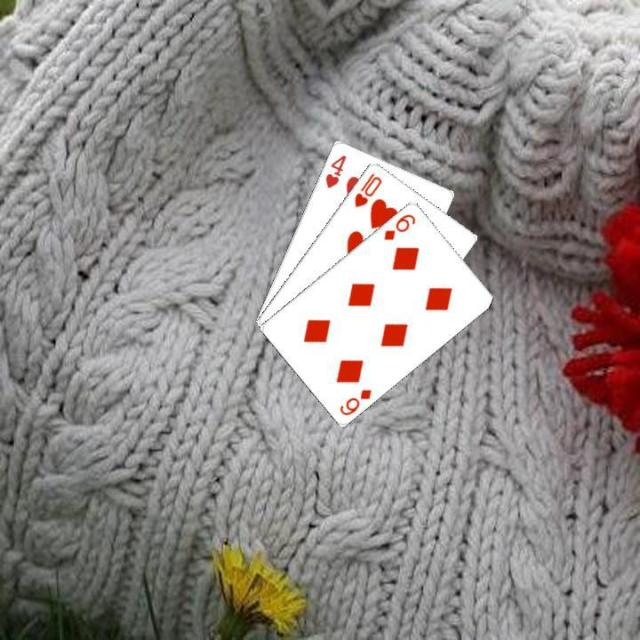10H: (350, 169, 384, 209)
4H: (321, 150, 347, 190)
6D: (380, 210, 418, 242), (336, 385, 373, 417)
